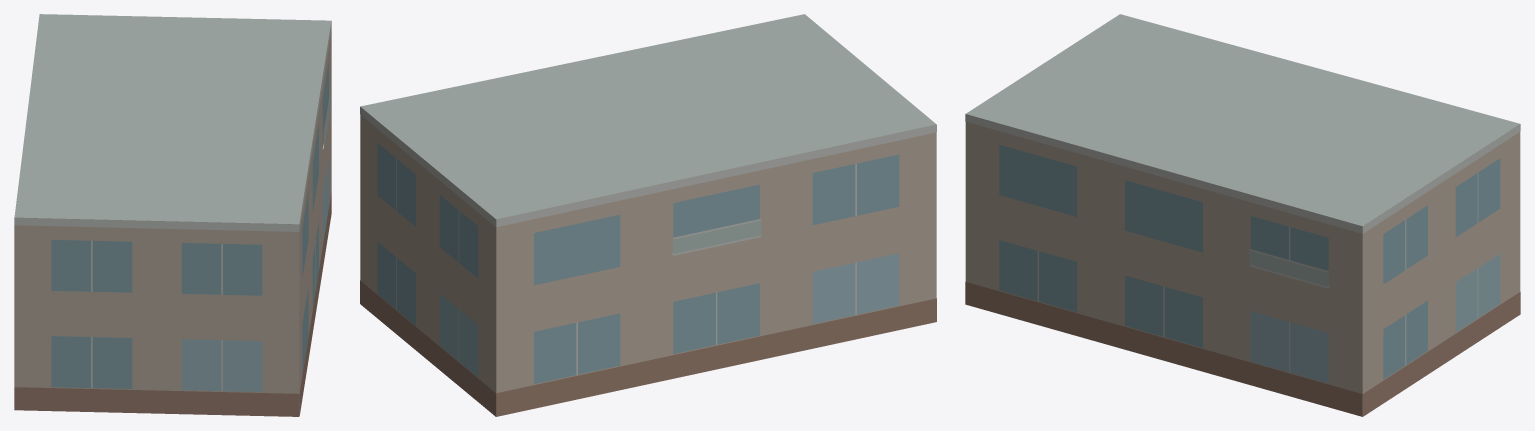
Rendered from survey-upis-32661550.glb.
The picture shows the model from 3 angles, left to right: view 1: azimuth 30°, elevation 25°; view 2: azimuth 150°, elevation 25°; view 3: azimuth 270°, elevation 25°; orthographic projection. The views are drawn at different scales.
Parts seen in each view (by area): view 1: survey-upis-32661550.tmp; view 2: survey-upis-32661550.tmp; view 3: survey-upis-32661550.tmp.
Boxes of the visible parts, <box> form: survey-upis-32661550.tmp: <box>14,14,331,416</box>; survey-upis-32661550.tmp: <box>360,14,936,416</box>; survey-upis-32661550.tmp: <box>965,14,1520,416</box>.
Bounding box in the file's own units: 14.58 × 6.1 × 16.11.
